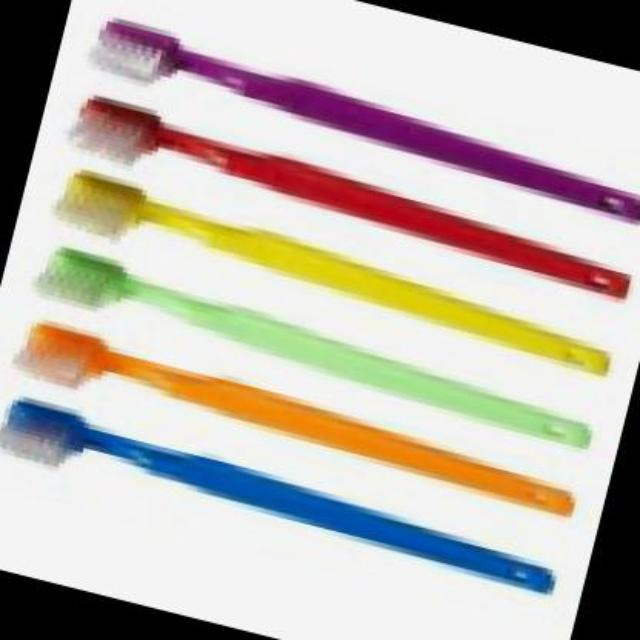toothbrush: (0, 385, 590, 637), (40, 173, 628, 377)
